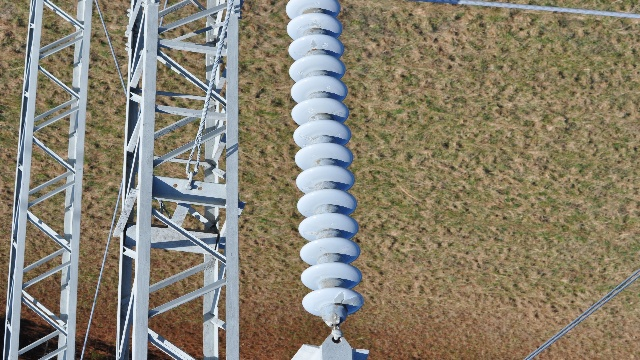insulator_unspecified: (283, 0, 363, 314)
pollution_flashover_local: (333, 291, 364, 309), (298, 132, 314, 142), (337, 245, 352, 255), (331, 109, 349, 117), (309, 18, 322, 27), (309, 39, 318, 50), (302, 230, 317, 236), (300, 186, 314, 191), (320, 247, 329, 254)
